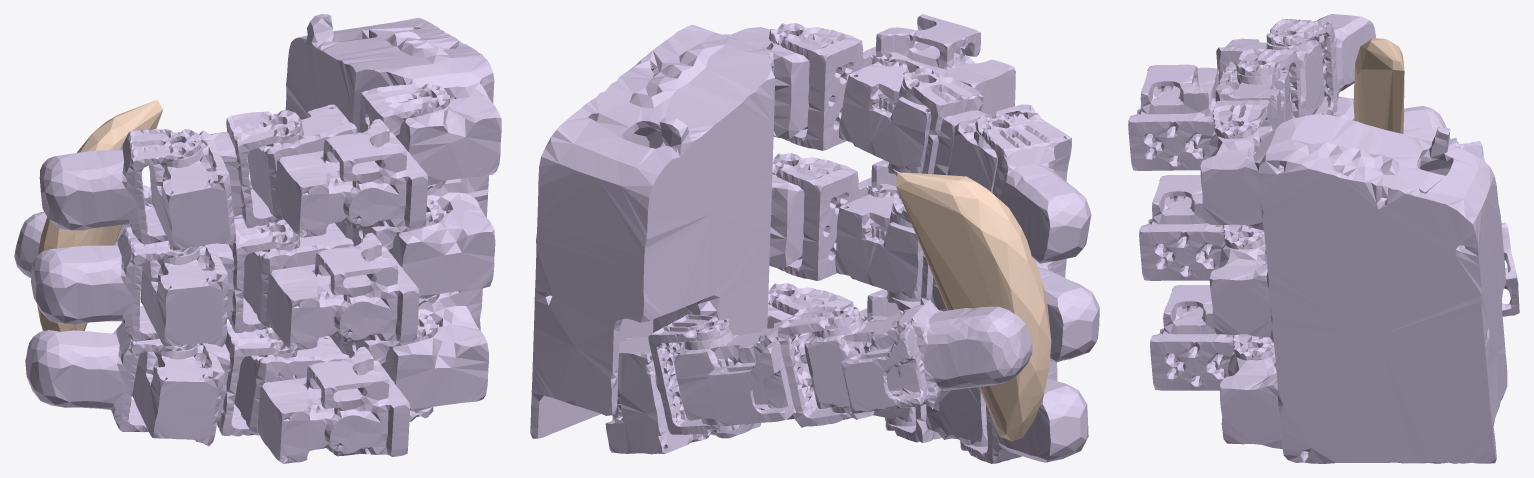
The model's file is bf2472fc2f101b-closed.glb.
The picture shows the model from 3 angles, left to right: view 1: azimuth 30°, elevation 25°; view 2: azimuth 150°, elevation 25°; view 3: azimuth 270°, elevation 25°; orthographic projection. The views are drawn at different scales.
Parts seen in each view (by area): view 1: LEAP_hand, world; view 2: LEAP_hand, world; view 3: LEAP_hand, world.
Part boxes in pixels (bbox=[...]): LEAP_hand: bbox=[14, 14, 501, 463]; world: bbox=[37, 99, 163, 331]; LEAP_hand: bbox=[530, 14, 1099, 463]; world: bbox=[896, 172, 1051, 441]; LEAP_hand: bbox=[1128, 14, 1519, 463]; world: bbox=[1353, 38, 1404, 133].
Bounding box in the file's own units: 0.1798 × 0.1265 × 0.1443.
